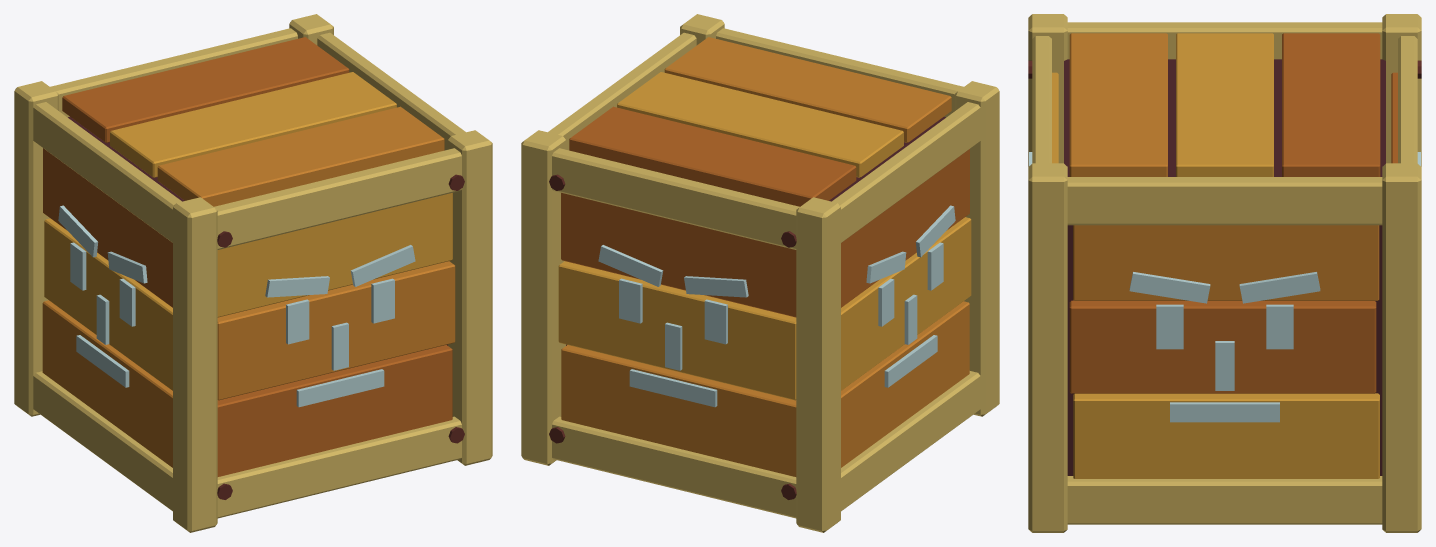
The model's file is SM_crate_aku.glb.
3 renders of one model, left to right at view 1: azimuth 30°, elevation 25°; view 2: azimuth 150°, elevation 25°; view 3: azimuth 270°, elevation 25°, orthographic. The views are drawn at different scales.
Visible parts, largest first — view 1: SM_crate_aku; view 2: SM_crate_aku; view 3: SM_crate_aku.
Part boxes in pixels (x1,y1,x2,y2): SM_crate_aku: (14,14,492,532); SM_crate_aku: (521,14,999,532); SM_crate_aku: (1028,14,1421,532).
Size of the model in its own units: 1 by 1 by 1.
